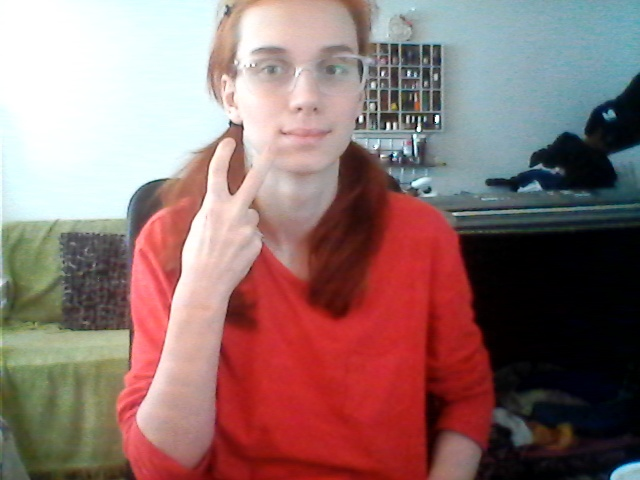usmievat: (177, 118, 362, 265)
